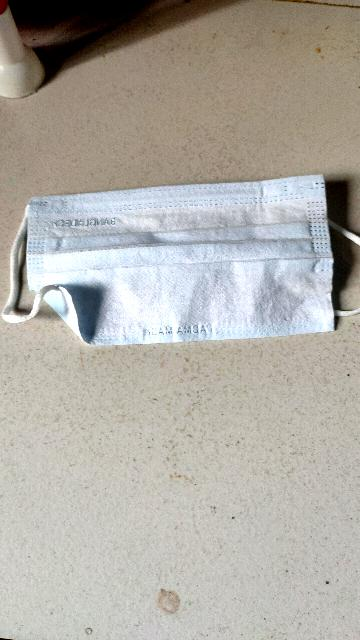mask: (1, 165, 360, 356)
